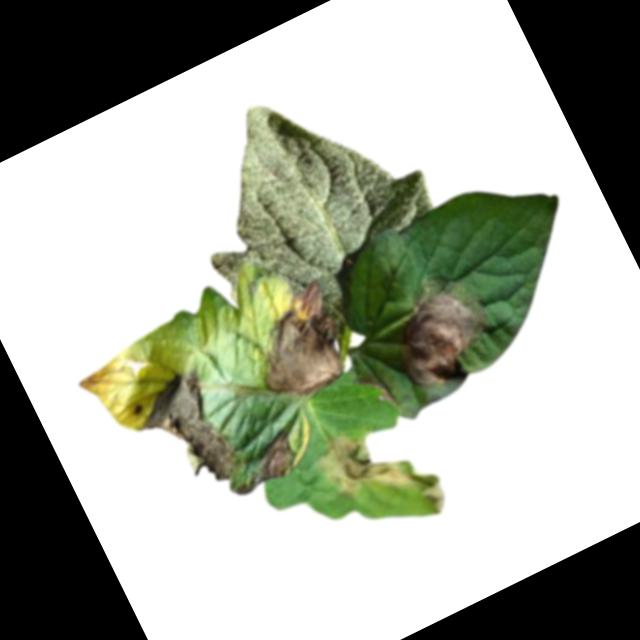Late_blight: (307, 398, 455, 554), (367, 264, 503, 400), (119, 362, 245, 506), (228, 280, 357, 411), (217, 426, 304, 501), (355, 364, 396, 413)
